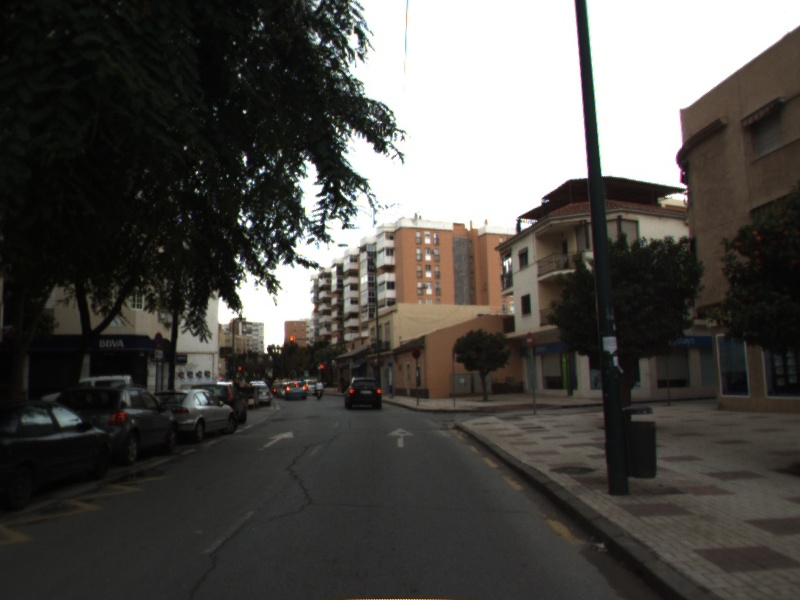STRAIGHT: (384, 425, 418, 449), (261, 429, 296, 450)
